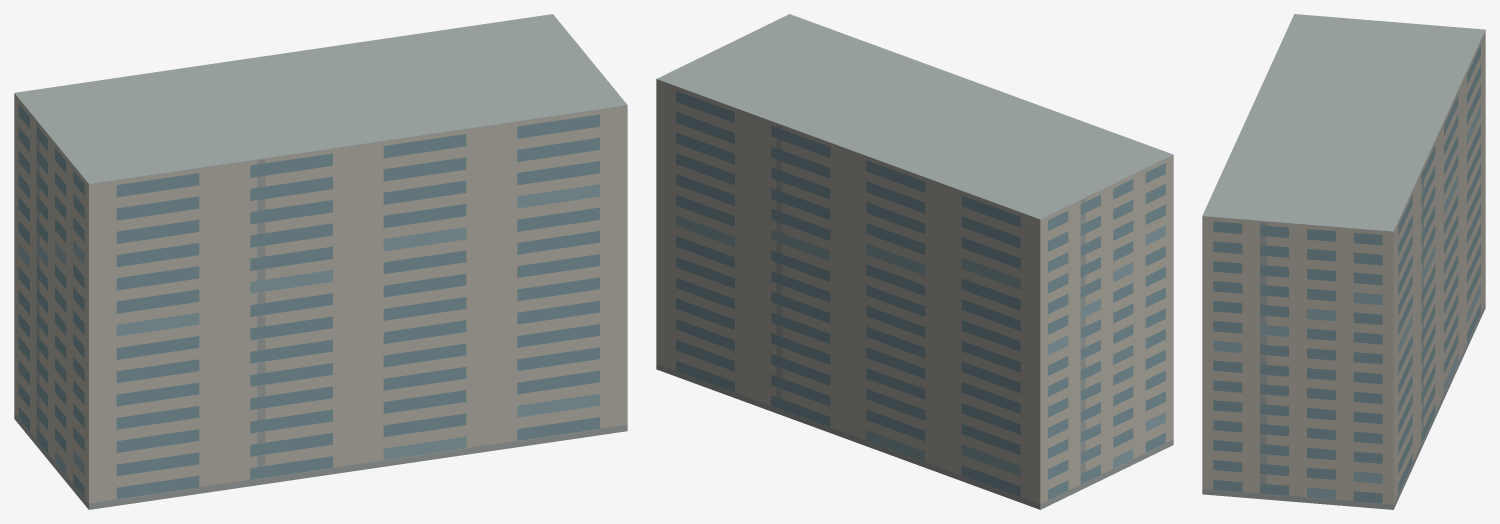
The model's file is residential-b19ab430-6f57-4912-aea1-b6a8e88faa0d.glb.
3 views of the same model, side by side, from view 1: azimuth 30°, elevation 25°; view 2: azimuth 150°, elevation 25°; view 3: azimuth 270°, elevation 25° (orthographic). The views are drawn at different scales.
Parts seen in each view (by area): view 1: residential-b19ab430-6f57-4912-aea1-b6a8e88faa0d.tmp; view 2: residential-b19ab430-6f57-4912-aea1-b6a8e88faa0d.tmp; view 3: residential-b19ab430-6f57-4912-aea1-b6a8e88faa0d.tmp.
Part boxes in pixels (x1,y1,x2,y2): residential-b19ab430-6f57-4912-aea1-b6a8e88faa0d.tmp: (14, 14, 627, 509); residential-b19ab430-6f57-4912-aea1-b6a8e88faa0d.tmp: (656, 14, 1173, 509); residential-b19ab430-6f57-4912-aea1-b6a8e88faa0d.tmp: (1202, 14, 1485, 509).
Bounding box in the file's own units: 83.85 × 50 × 46.16.
